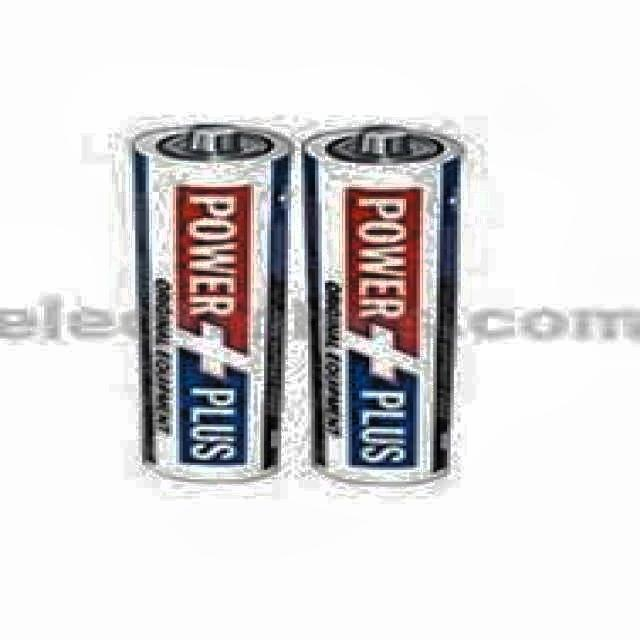Non-Valuable Waste - Batteries: (305, 125, 461, 482), (135, 125, 288, 483)
